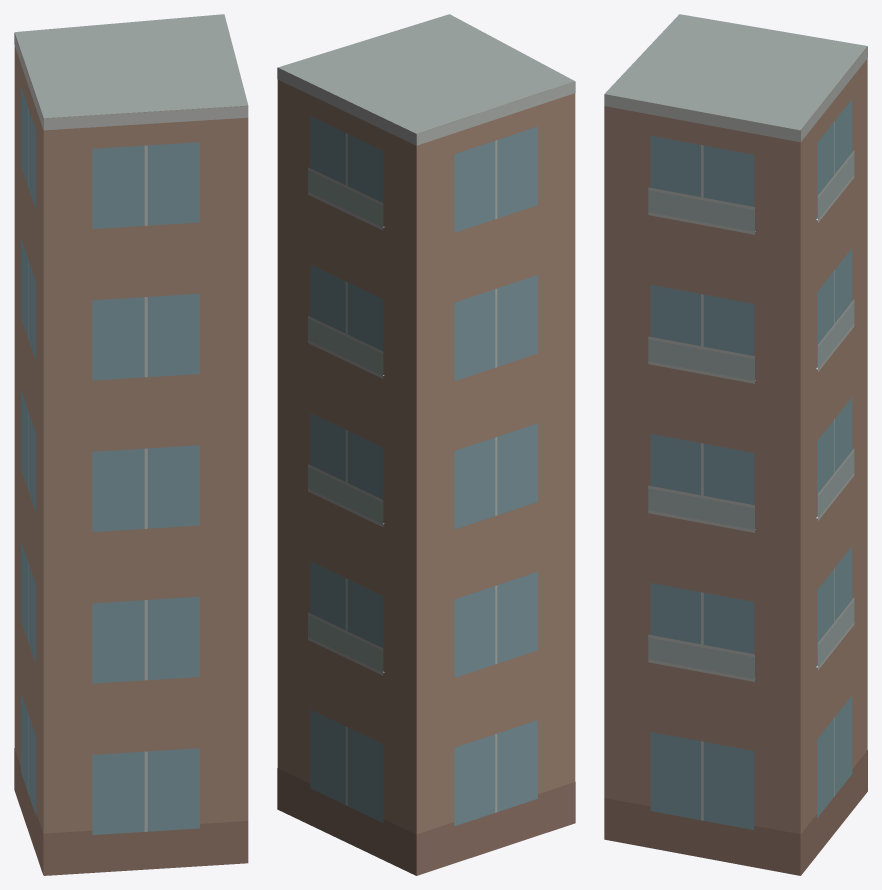
Rendered from survey-upis-32987567.glb.
3 views of the same model, side by side, from view 1: azimuth 30°, elevation 25°; view 2: azimuth 150°, elevation 25°; view 3: azimuth 270°, elevation 25° (orthographic). The views are drawn at different scales.
Visible parts, largest first — view 1: survey-upis-32987567.tmp; view 2: survey-upis-32987567.tmp; view 3: survey-upis-32987567.tmp.
Part boxes in pixels (bbox=[...]): survey-upis-32987567.tmp: bbox=[14, 14, 248, 875]; survey-upis-32987567.tmp: bbox=[277, 14, 575, 875]; survey-upis-32987567.tmp: bbox=[604, 14, 867, 875].
Bounding box in the file's own units: 5.12 × 15.25 × 4.89.
